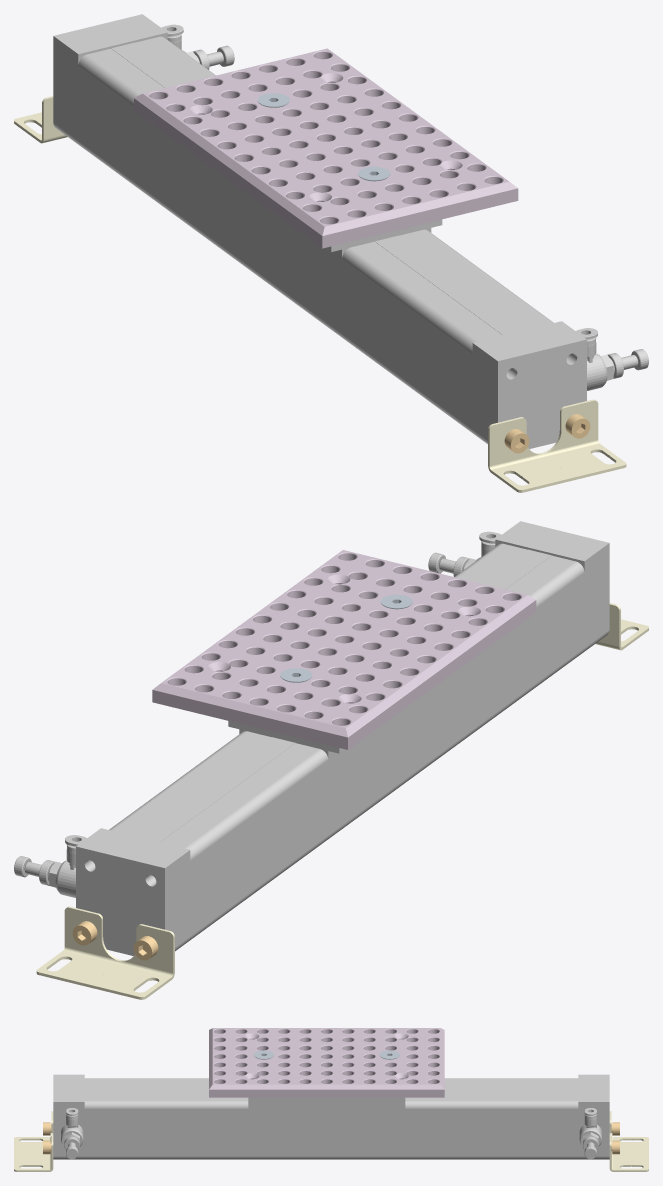
The model's file is PneumaticShifter.fbx.
The picture shows the model from 3 angles, top to bottom: view 1: azimuth 30°, elevation 25°; view 2: azimuth 150°, elevation 25°; view 3: azimuth 270°, elevation 25°; orthographic projection. The views are drawn at different scales.
Parts seen in each view (by area): view 1: D112881B; view 2: D112881B; view 3: D112881B.
Part boxes in pixels (x1,y1,x2,y2): D112881B: [14, 14, 648, 492]; D112881B: [14, 521, 648, 999]; D112881B: [14, 1028, 648, 1171].
Size of the model in its own units: 9.78 by 7.06 by 40.4.
